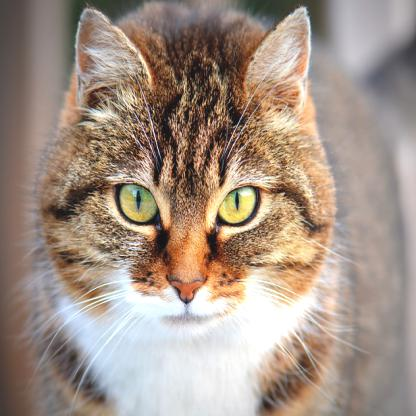cat: (38, 6, 336, 415)
